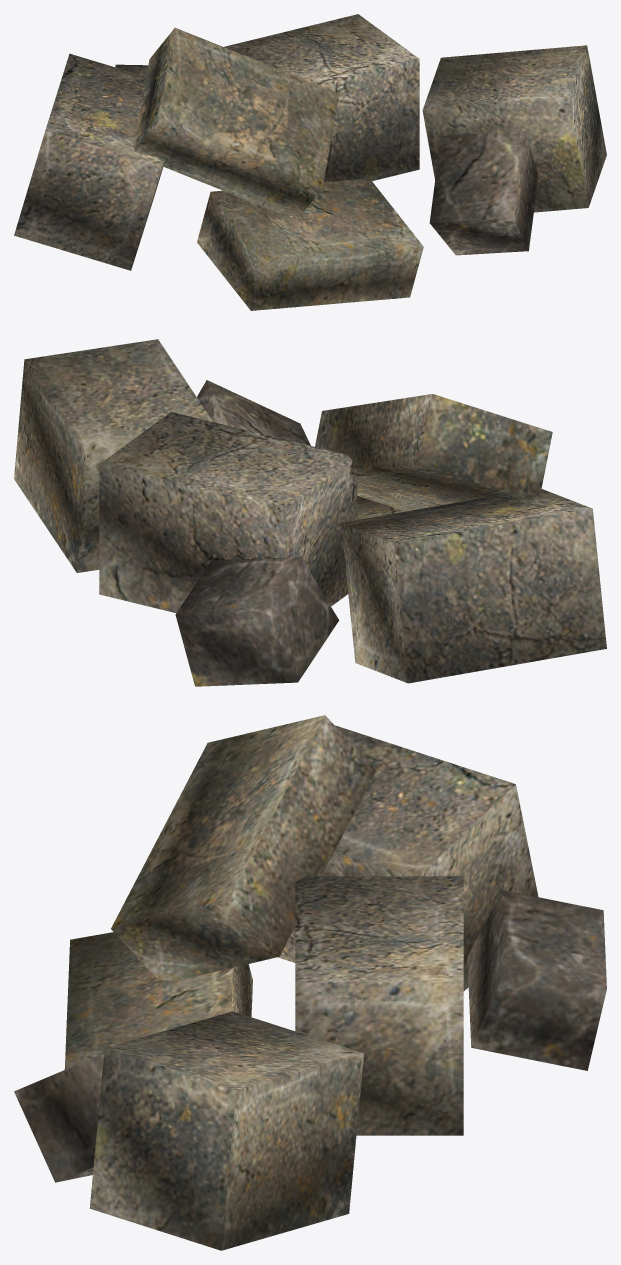
Rendered from wall5_old_ruin.fbx.
3 renders of one model, top to bottom at view 1: azimuth 30°, elevation 25°; view 2: azimuth 150°, elevation 25°; view 3: azimuth 270°, elevation 25°, orthographic. The views are drawn at different scales.
Visible parts, largest first — view 1: polySurface92; view 2: polySurface92; view 3: polySurface92.
Boxes of the visible parts, bbox=[...] form: polySurface92: bbox=[14, 14, 606, 310]; polySurface92: bbox=[14, 339, 606, 686]; polySurface92: bbox=[14, 715, 606, 1250].
Bounding box in the file's own units: 2.04 × 0.859 × 1.39.
